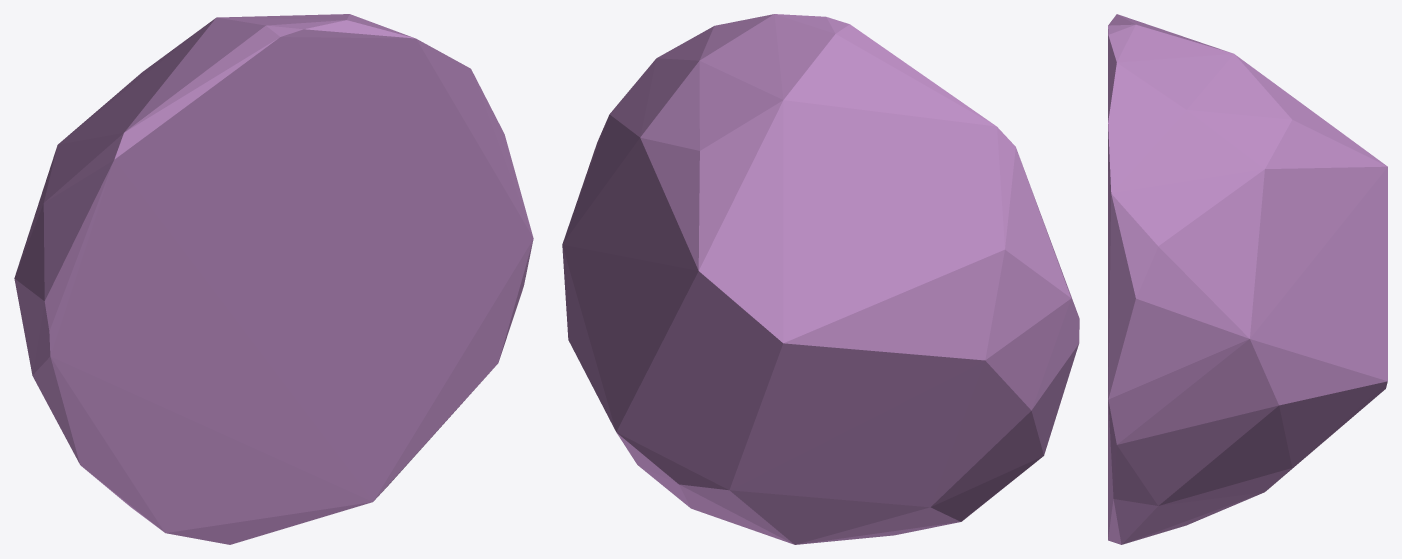
The model's file is kitchenware_bowl_l01.glb.
The picture shows the model from 3 angles, left to right: view 1: azimuth 30°, elevation 25°; view 2: azimuth 150°, elevation 25°; view 3: azimuth 270°, elevation 25°; orthographic projection. The views are drawn at different scales.
Parts seen in each view (by area): view 1: geometry_0; view 2: geometry_0; view 3: geometry_0.
Boxes of the visible parts, x1,y1,x2,y2 form: geometry_0: [14, 14, 533, 544]; geometry_0: [562, 14, 1079, 544]; geometry_0: [1108, 14, 1387, 544].
Size of the model in its own units: 0.4771 by 0.4713 by 0.2473.
